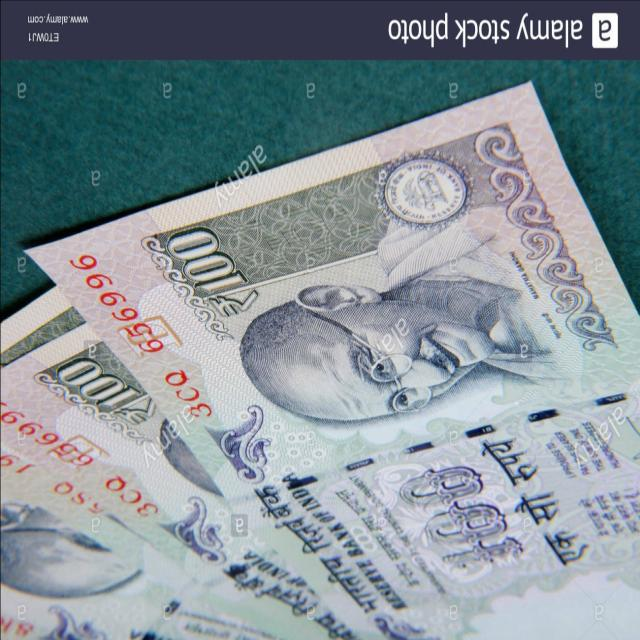100IndianRupees: (32, 76, 640, 640)
